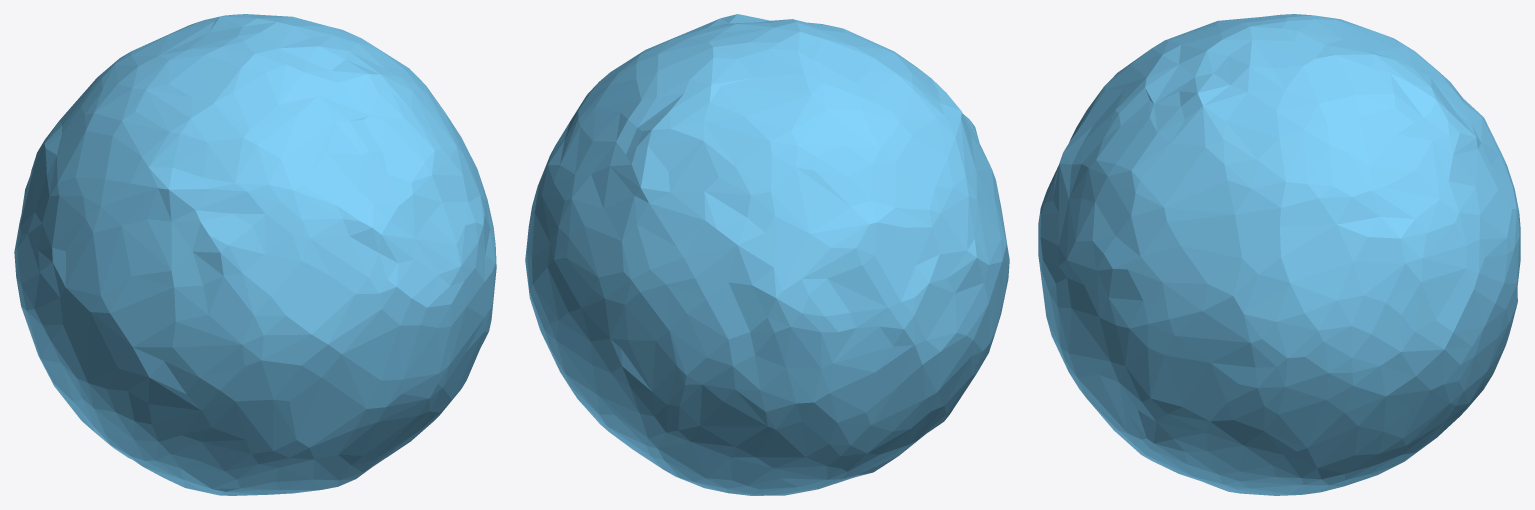
Rendered from yuranus.fbx.
3 renders of one model, left to right at view 1: azimuth 30°, elevation 25°; view 2: azimuth 150°, elevation 25°; view 3: azimuth 270°, elevation 25°, orthographic.
Parts seen in each view (by area): view 1: Uranus; view 2: Uranus; view 3: Uranus.
Boxes of the visible parts, bbox=[...] form: Uranus: bbox=[14, 14, 496, 495]; Uranus: bbox=[525, 14, 1009, 495]; Uranus: bbox=[1038, 14, 1520, 495].
Bounding box in the file's own units: 90.89 × 89.84 × 89.45.
